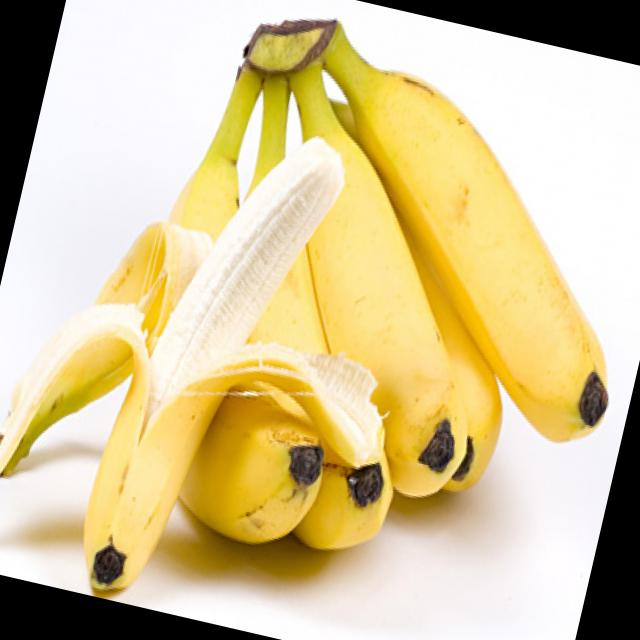banana: (259, 22, 640, 464), (215, 82, 564, 515), (157, 101, 465, 558), (58, 123, 288, 614)
